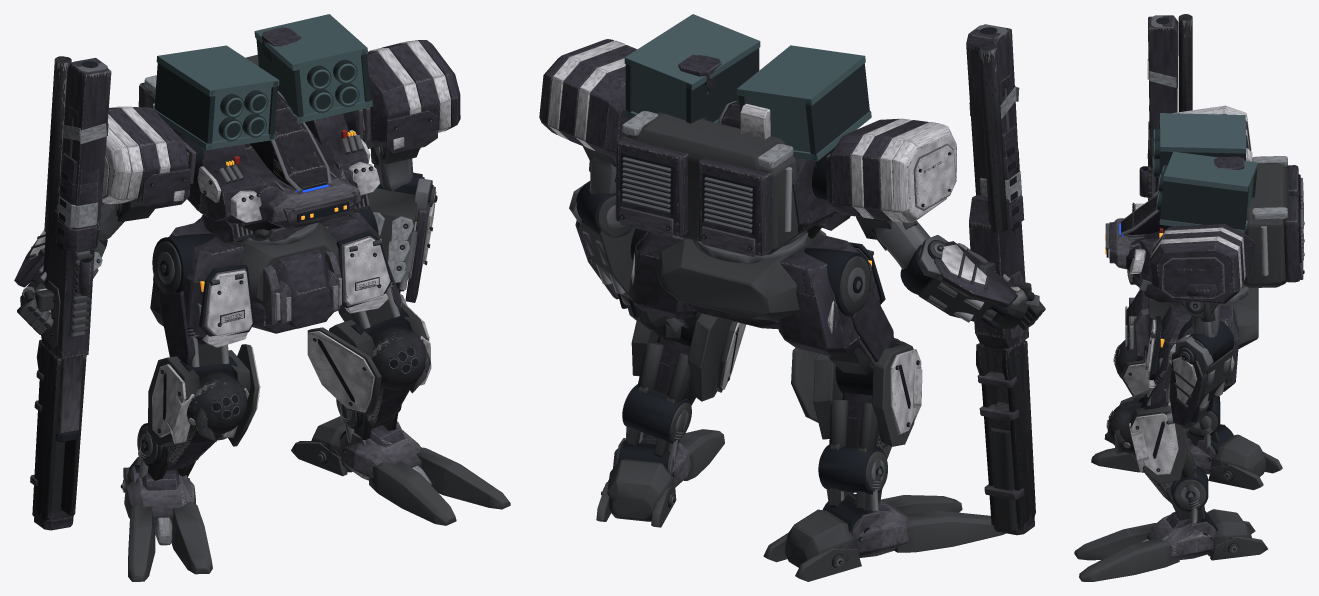
Rendered from saltjack.glb.
3 renders of one model, left to right at view 1: azimuth 30°, elevation 25°; view 2: azimuth 150°, elevation 25°; view 3: azimuth 270°, elevation 25°, orthographic. The views are drawn at different scales.
Visible parts, largest first — view 1: Carriage assembly, Pelvis assembly, Thorax assembly, Knee_L assembly, Knee_R assembly, Ankle_R assembly, Cassette hardware R, Shoulder_L assembly, Shoulder_R assembly, Cassette hardware L, Ankle_L assembly, Elbow_L assembly (+5 smaller); view 2: Thorax assembly, Carriage assembly, Pelvis assembly, Knee_L assembly, Shoulder_R assembly, Ankle_L assembly, Knee_R assembly, Cassette hardware R, Cassette hardware L, Shoulder_L assembly, Elbow_R assembly, Ankle_R assembly (+5 smaller); view 3: Thorax assembly, Ankle_R assembly, Shoulder_L assembly, Knee_R assembly, Cassette hardware L, Pelvis assembly, Carriage assembly, Elbow_L assembly, Ankle_L assembly, Cassette hardware R, Knee_L assembly, Arm_L assembly (+3 smaller).
Boxes of the visible parts, box(x1,y1,x2,y2) form: Carriage assembly: box(30, 56, 111, 530); Pelvis assembly: box(150, 212, 392, 347); Thorax assembly: box(138, 54, 380, 243); Knee_L assembly: box(137, 344, 260, 480); Knee_R assembly: box(307, 303, 431, 443); Ankle_R assembly: box(291, 416, 510, 525); Cassette hardware R: box(153, 45, 279, 149); Shoulder_L assembly: box(343, 40, 460, 164); Shoulder_R assembly: box(102, 106, 204, 222); Cassette hardware L: box(254, 14, 372, 122); Ankle_L assembly: box(120, 456, 212, 581); Elbow_L assembly: box(367, 172, 437, 305); Thorax assembly: box(615, 100, 850, 256); Carriage assembly: box(966, 24, 1035, 535); Pelvis assembly: box(628, 229, 885, 356); Knee_L assembly: box(791, 338, 922, 511); Shoulder_R assembly: box(812, 118, 956, 239); Ankle_L assembly: box(763, 494, 1005, 581); Knee_R assembly: box(622, 313, 745, 461); Cassette hardware R: box(736, 45, 871, 161); Cassette hardware L: box(624, 14, 760, 123); Shoulder_L assembly: box(539, 39, 636, 166); Elbow_R assembly: box(900, 235, 1045, 330); Ankle_R assembly: box(596, 429, 724, 527); Thorax assembly: box(1105, 156, 1304, 305); Ankle_R assembly: box(1074, 509, 1267, 581); Shoulder_L assembly: box(1149, 224, 1246, 318); Knee_R assembly: box(1106, 390, 1208, 523); Cassette hardware L: box(1156, 151, 1257, 233); Pelvis assembly: box(1125, 285, 1258, 391); Carriage assembly: box(1139, 14, 1192, 200); Elbow_L assembly: box(1163, 320, 1234, 429); Ankle_L assembly: box(1091, 424, 1282, 490); Cassette hardware R: box(1152, 113, 1246, 192); Knee_L assembly: box(1113, 340, 1220, 449); Arm_L assembly: box(1192, 302, 1220, 337).
Bounding box in the file's own units: 4.73 × 5.09 × 2.57.
9 materials, 7 textured.
